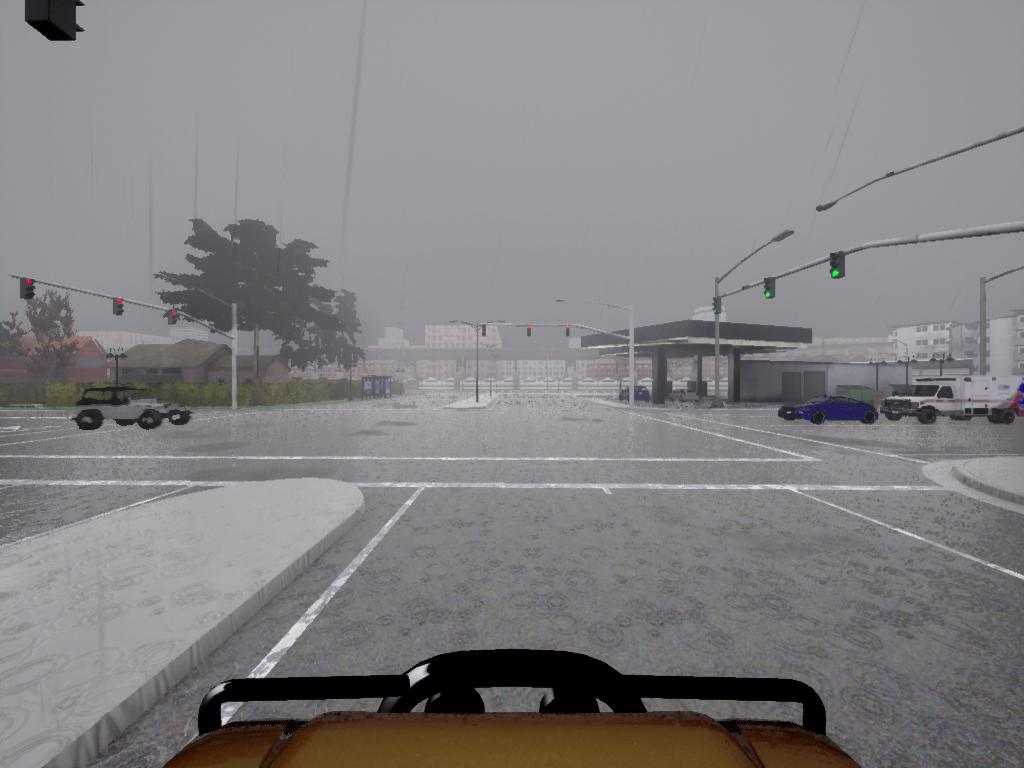traffic_light: (27, 1, 85, 41), (828, 256, 846, 281), (23, 278, 37, 302), (763, 279, 776, 301), (113, 299, 124, 319), (166, 310, 179, 326), (714, 297, 723, 315), (527, 324, 532, 338), (566, 325, 571, 338), (483, 325, 487, 338)
